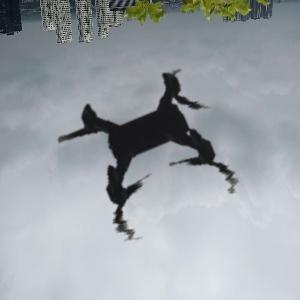drone: (7, 1, 299, 293)
